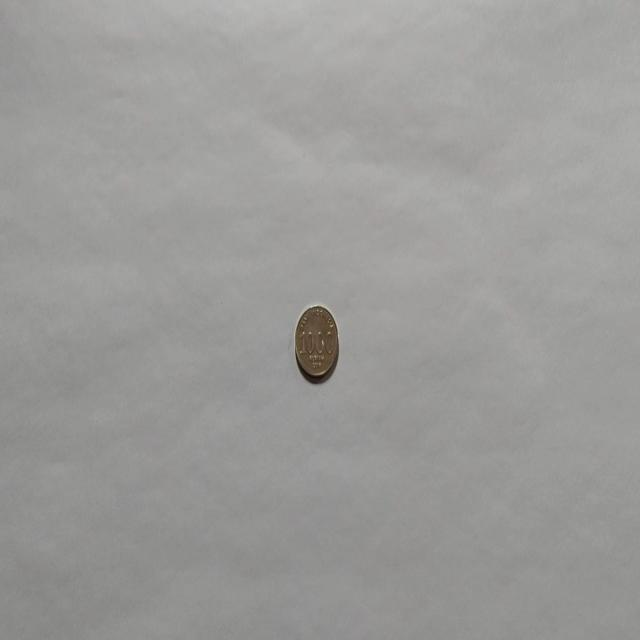seribu rupiah koin: (293, 303, 339, 382)
